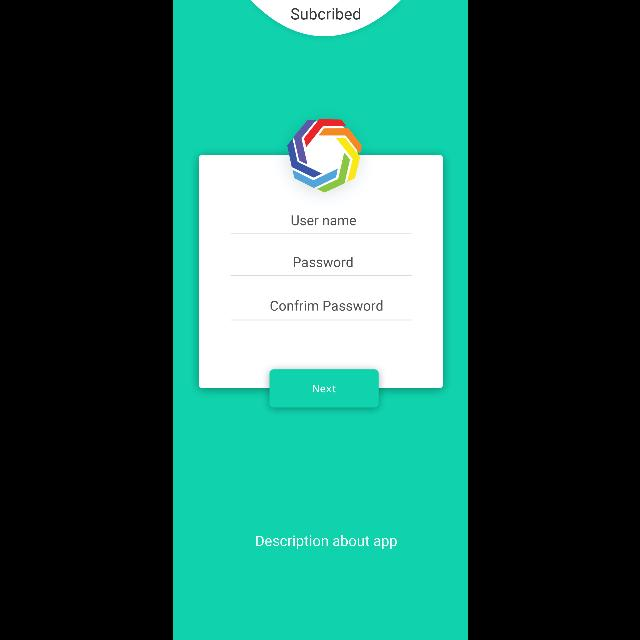image: (286, 119, 362, 193)
input: (228, 300, 412, 320), (229, 216, 411, 234), (229, 258, 411, 276)
text: (256, 535, 396, 549), (270, 300, 382, 310), (290, 8, 360, 20), (293, 256, 352, 268), (291, 216, 355, 226)
textbutton: (268, 370, 378, 408)
